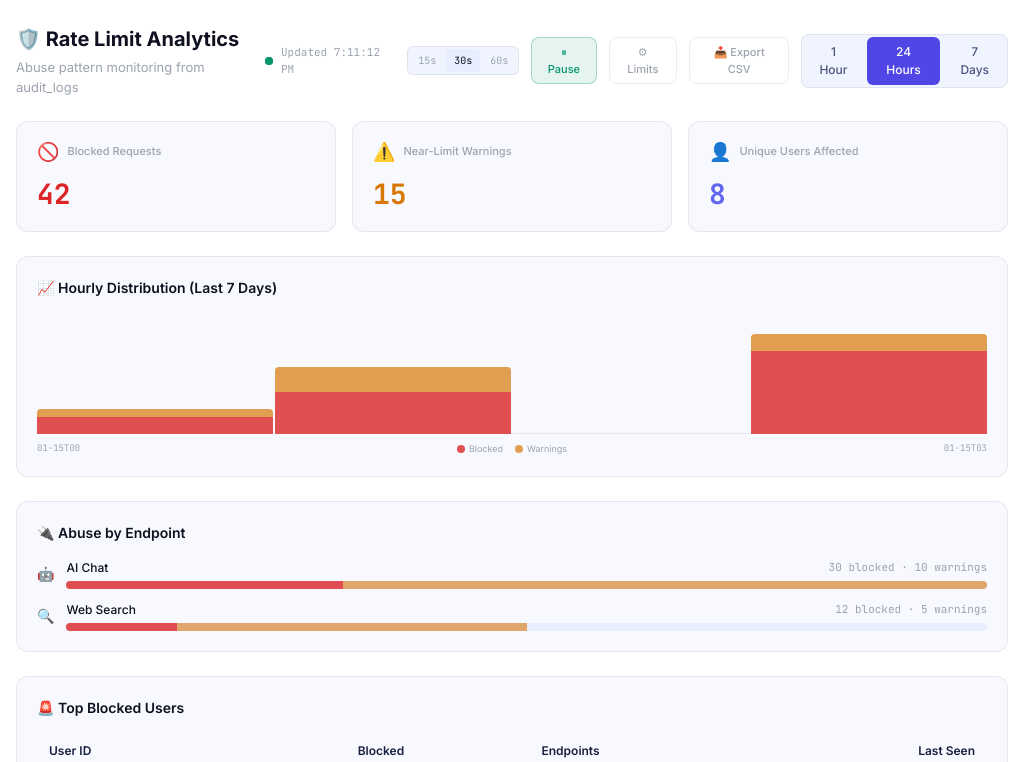
Test: RateLimitDashboard › toggles auto-refresh off
Expected: the text "42" is shown, [37,175,71,212]
What coordinates should you click on to do the following:
click the button "⏸ Pause"
I would click on:
 (564, 60)
Its box is [531,37,596,84].
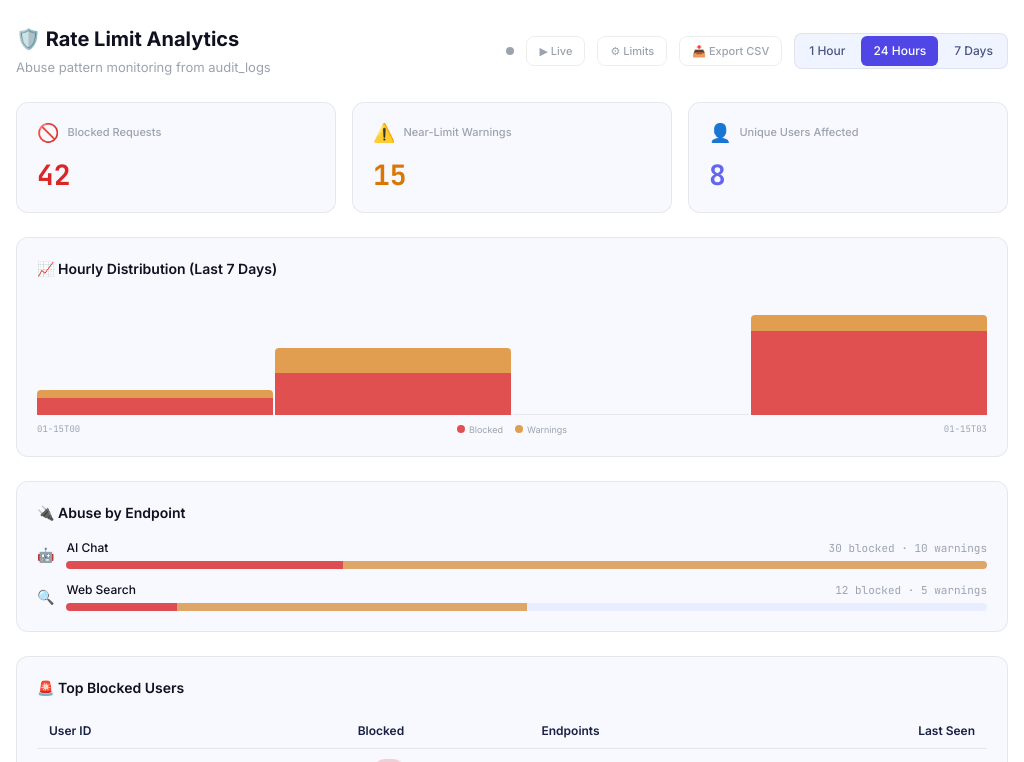
Expected: the button "▶ Live" is shown, [526,36,585,66]
